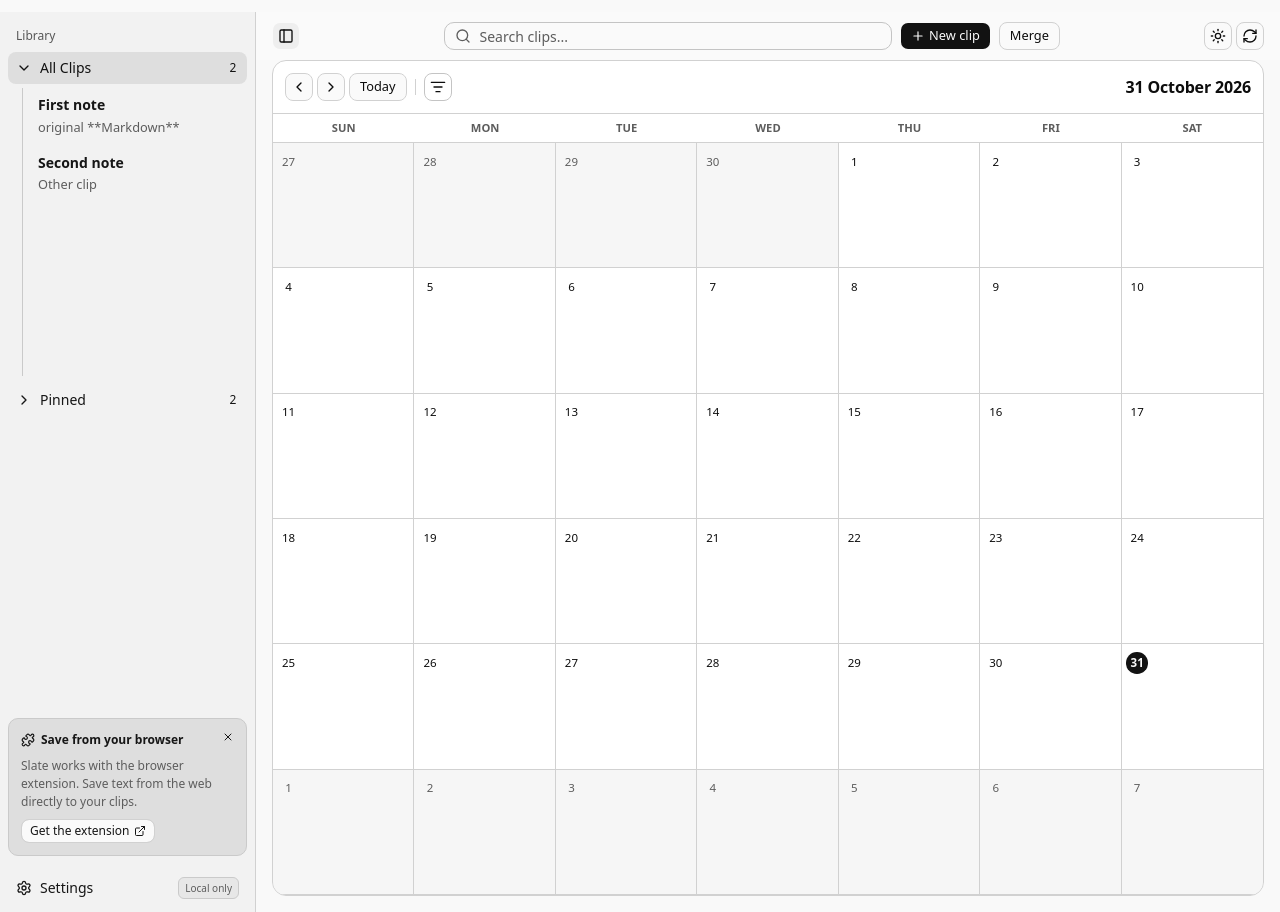
Test: clicking elsewhere saves; save control focus does not cause a second save
Click the button "First note original **Markdown**". click: (138, 116)
box: [29,88,247,144]
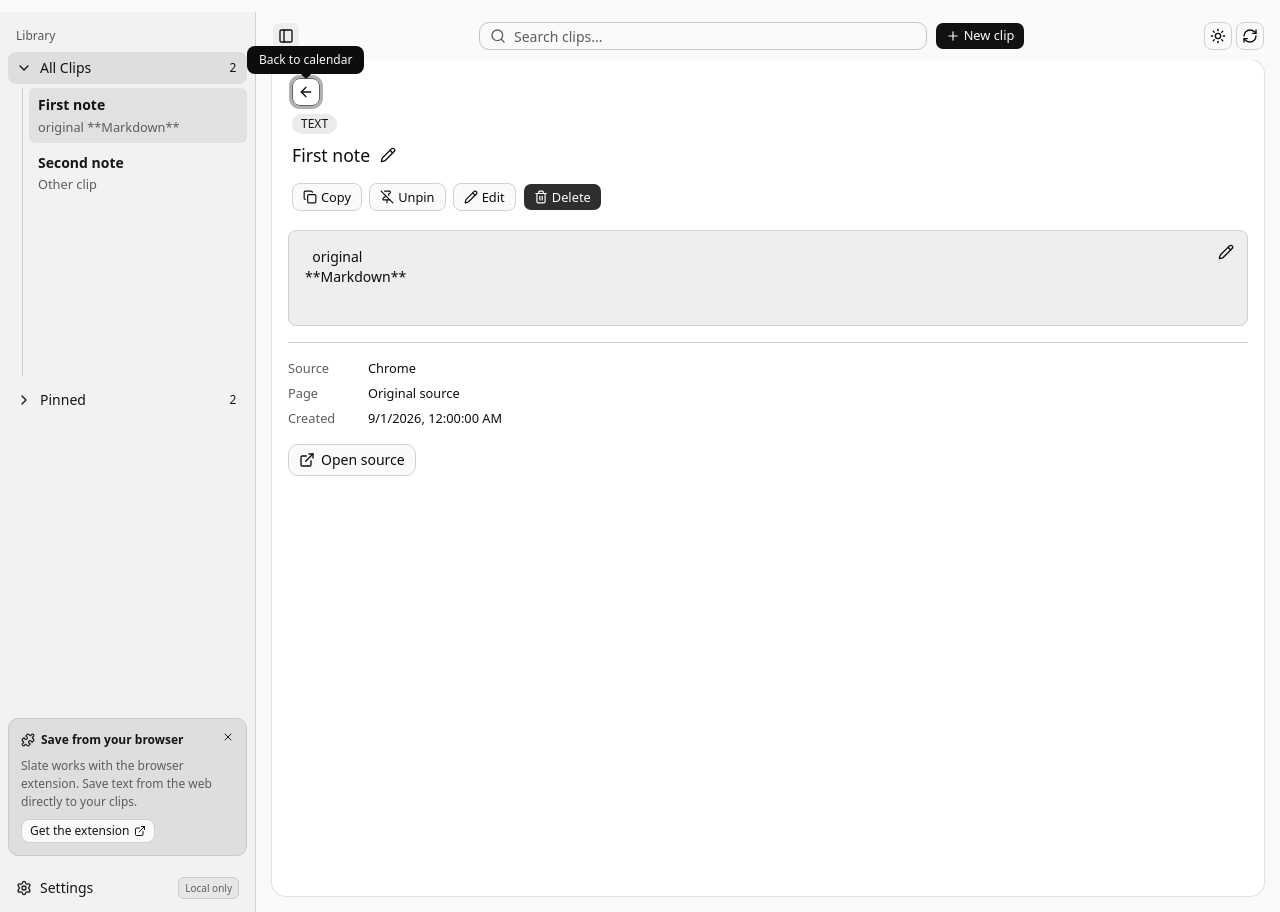
expect the button named "Edit content" is shown: met
Click the button named "Edit content". click: (1226, 252)
box: [1212,238,1240,266]
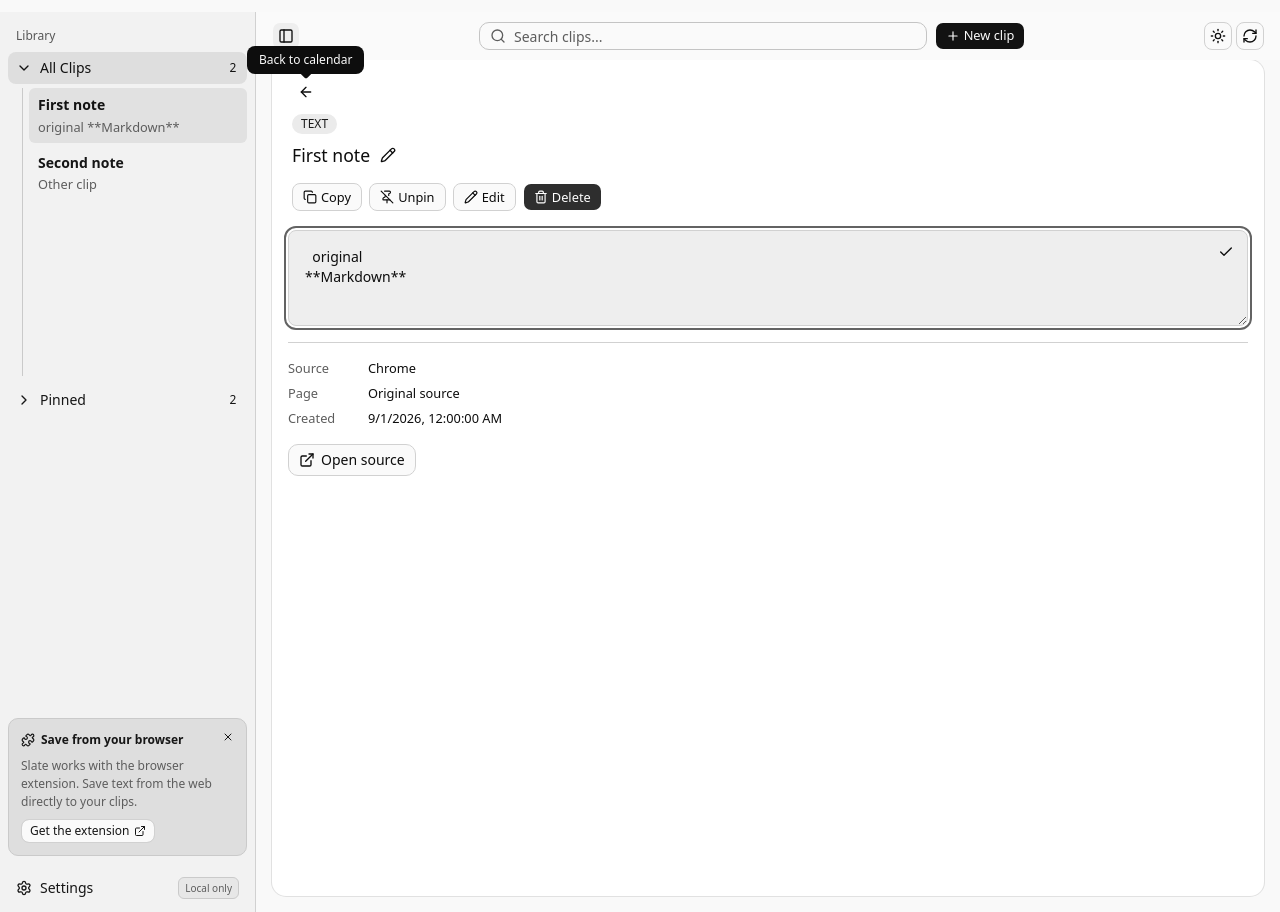
Replace the text in the text box named "Clip content" with "New content". click: (768, 278)
box: [288,230,1248,326]
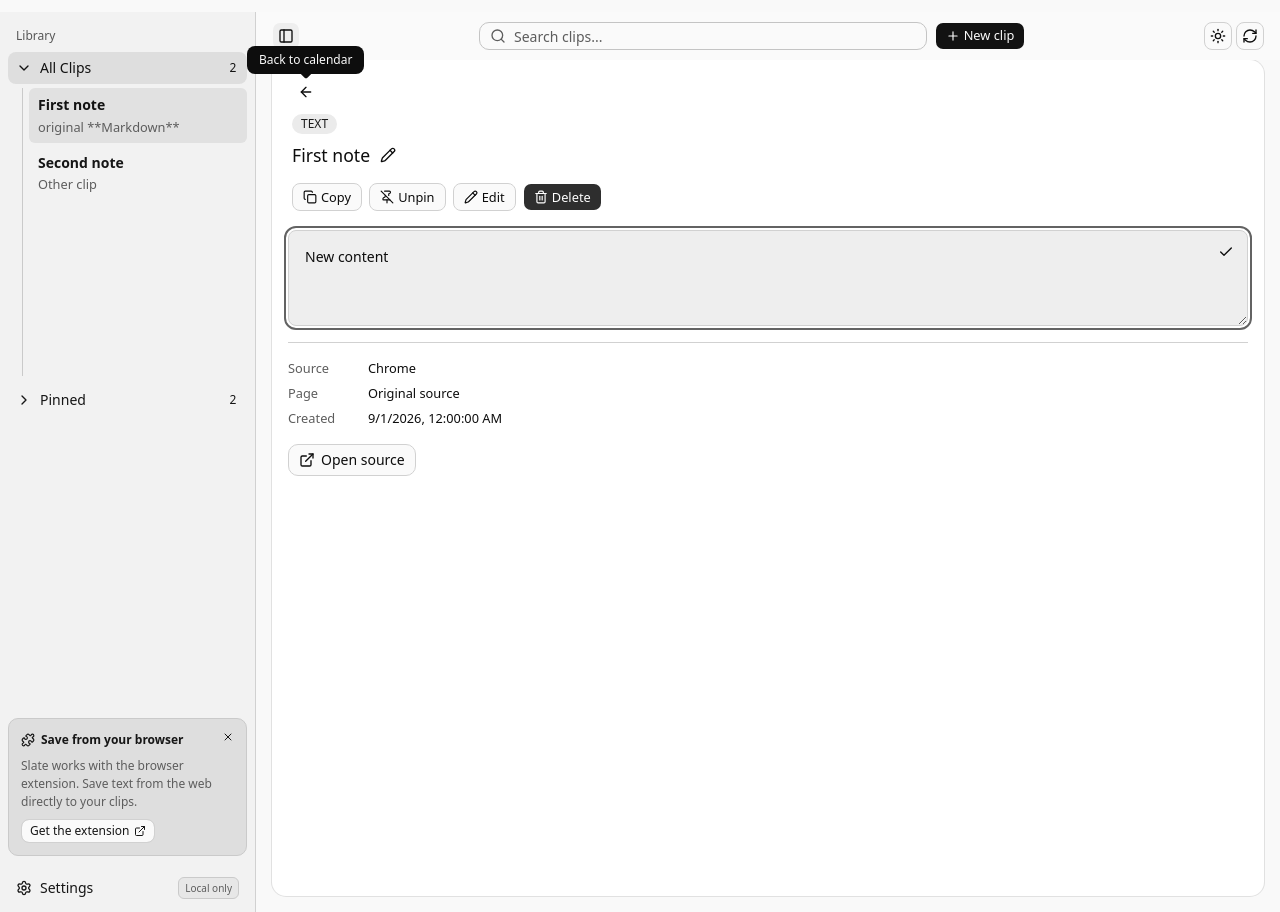
Click the heading "First note". click: (331, 155)
box: [292,143,370,167]
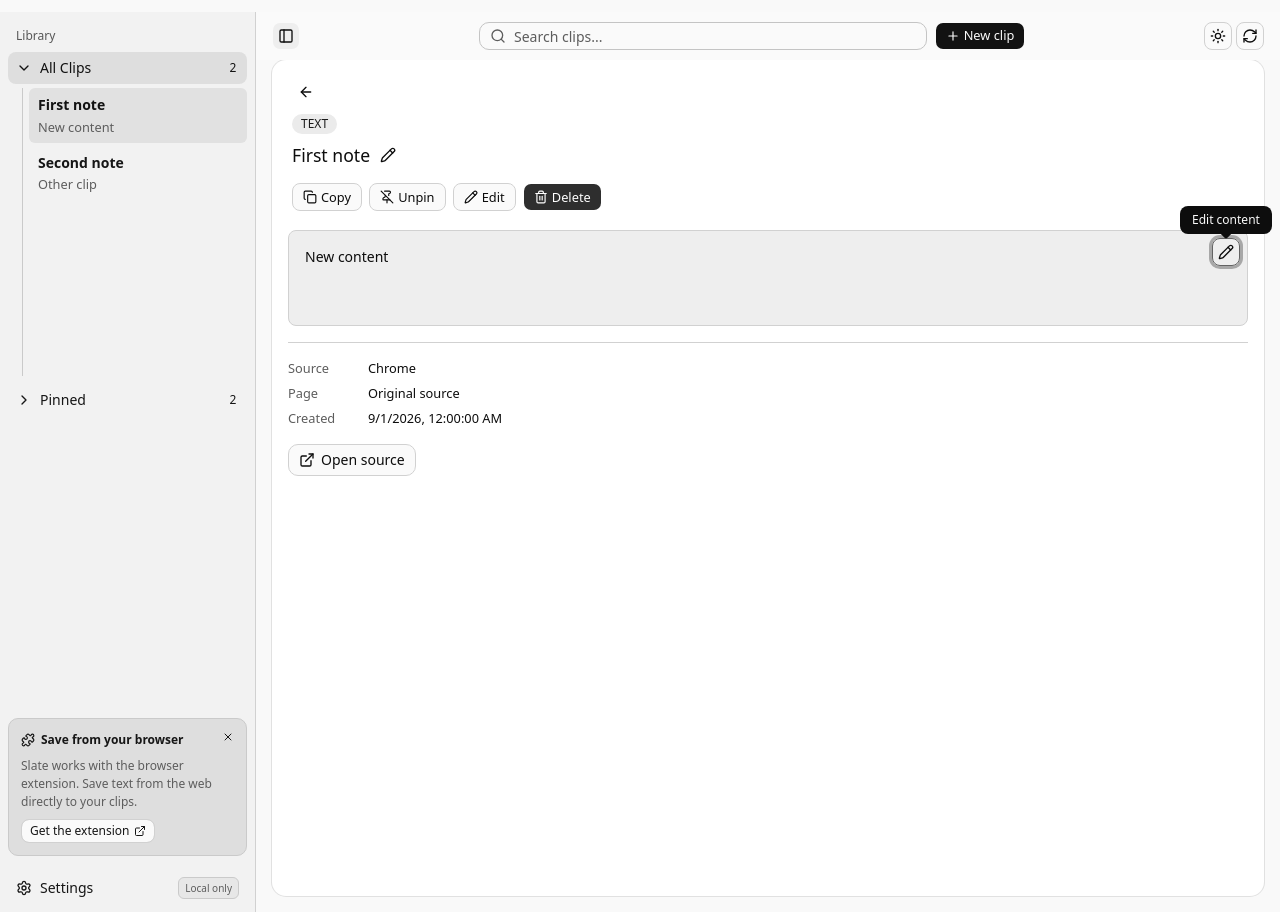
expect the button named "Edit content" is shown: met, box [1212,238,1240,266]
